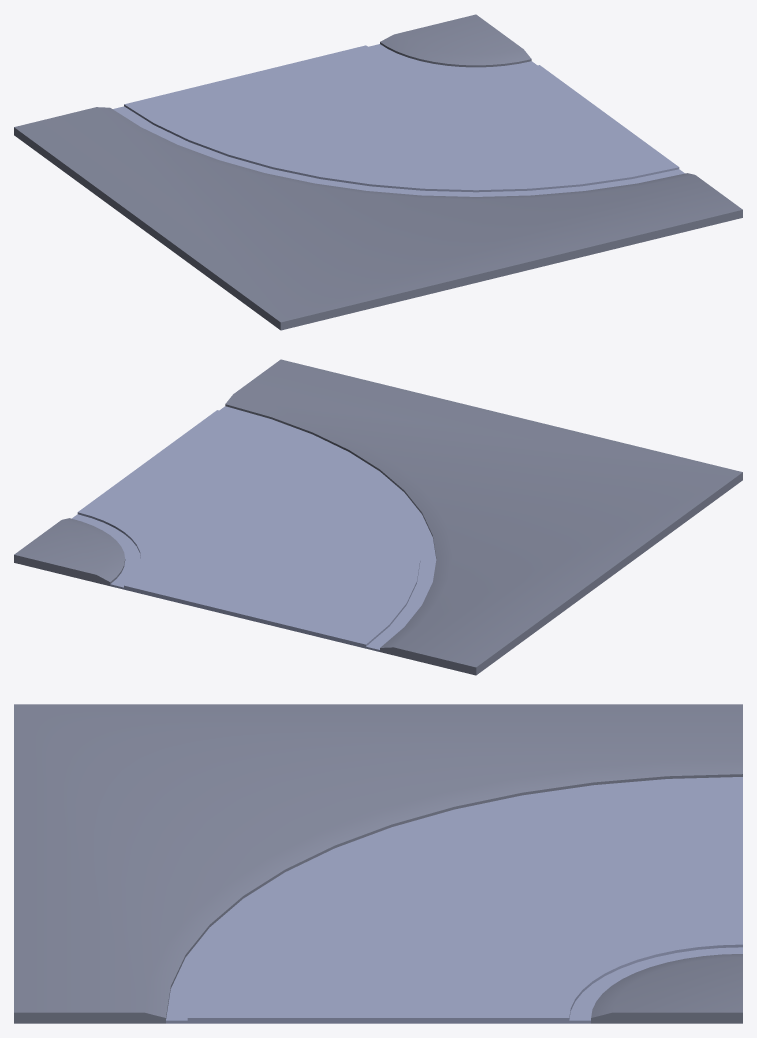
Rendered from road-bend.glb.
3 renders of one model, top to bottom at view 1: azimuth 30°, elevation 25°; view 2: azimuth 150°, elevation 25°; view 3: azimuth 270°, elevation 25°, orthographic. The views are drawn at different scales.
Parts seen in each view (by area): view 1: road-bend; view 2: road-bend; view 3: road-bend.
Boxes of the visible parts, x1,y1,x2,y2 form: road-bend: [14, 14, 742, 330]; road-bend: [14, 359, 742, 675]; road-bend: [14, 704, 742, 1023].
Size of the model in its own units: 3 by 0.0502 by 3.
1 material, 1 textured.
